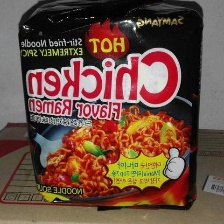snack: (11, 0, 210, 216)
